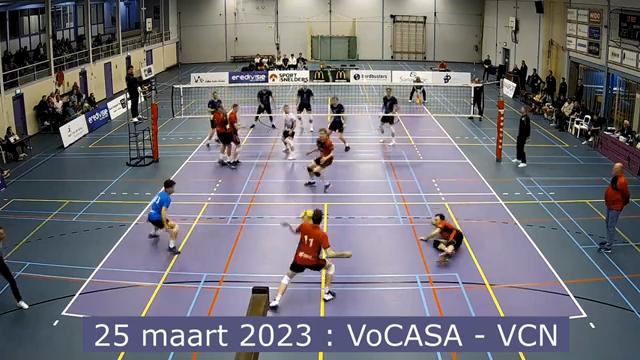difesa: (264, 205, 351, 310)
